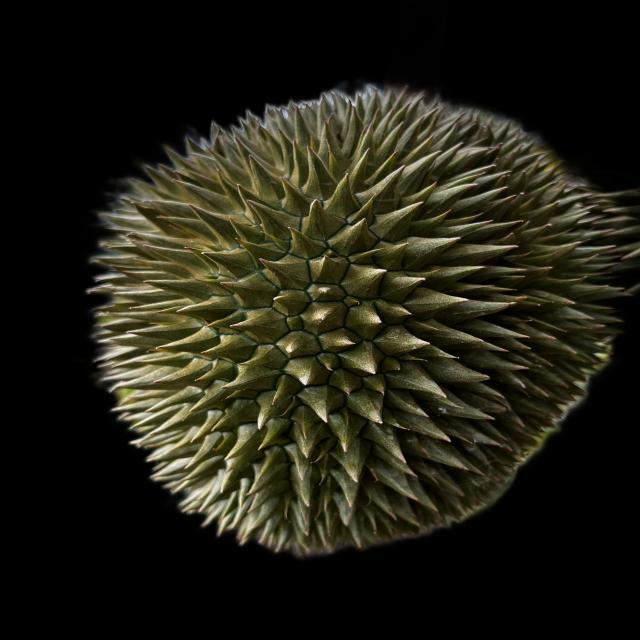immature: (77, 84, 607, 553)
